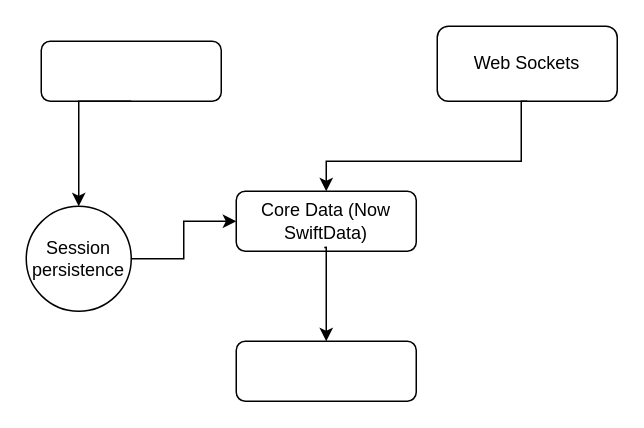
Some shapes in this 644 by 428 pixel diagram are drawn without their labels. The box of each missing label's shape, as (x1, y1, x2, y2) in pixels:
RLS Enabled CRUD Operations.: (40, 40, 221, 101)
Smooth UI thus great UX: (235, 340, 416, 401)
